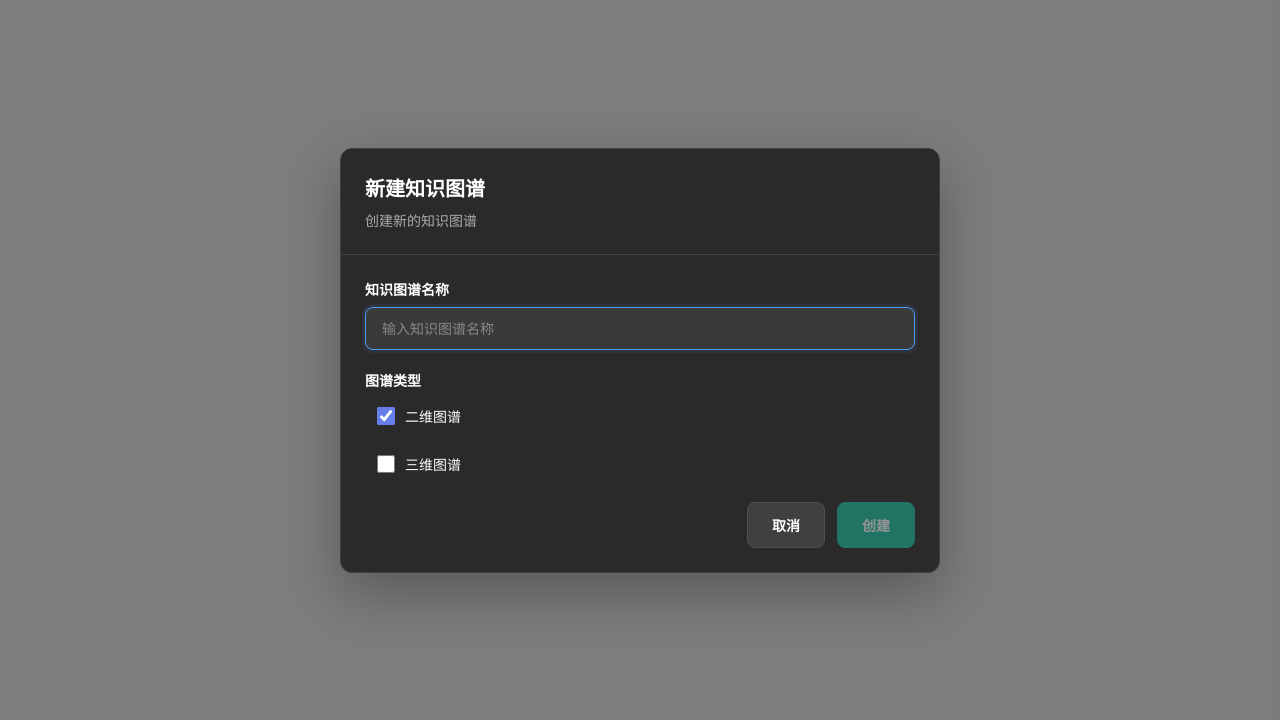
Test case: CreateProjectDialog › should enable create button when graph name is filled
Type "New Graph" into the field with placeholder "输入知识图谱名称". click: (640, 328)
box: [365, 306, 915, 350]
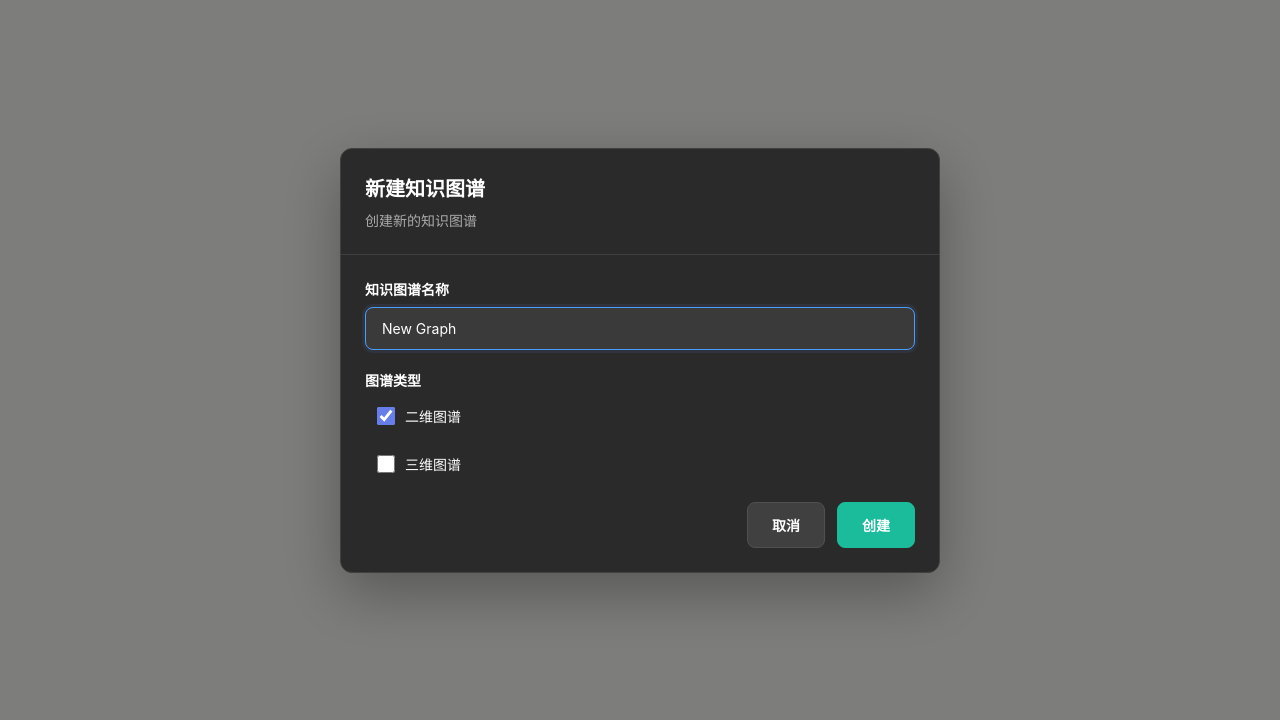
expect the button "创建" is enabled: met, box [837, 502, 915, 548]
